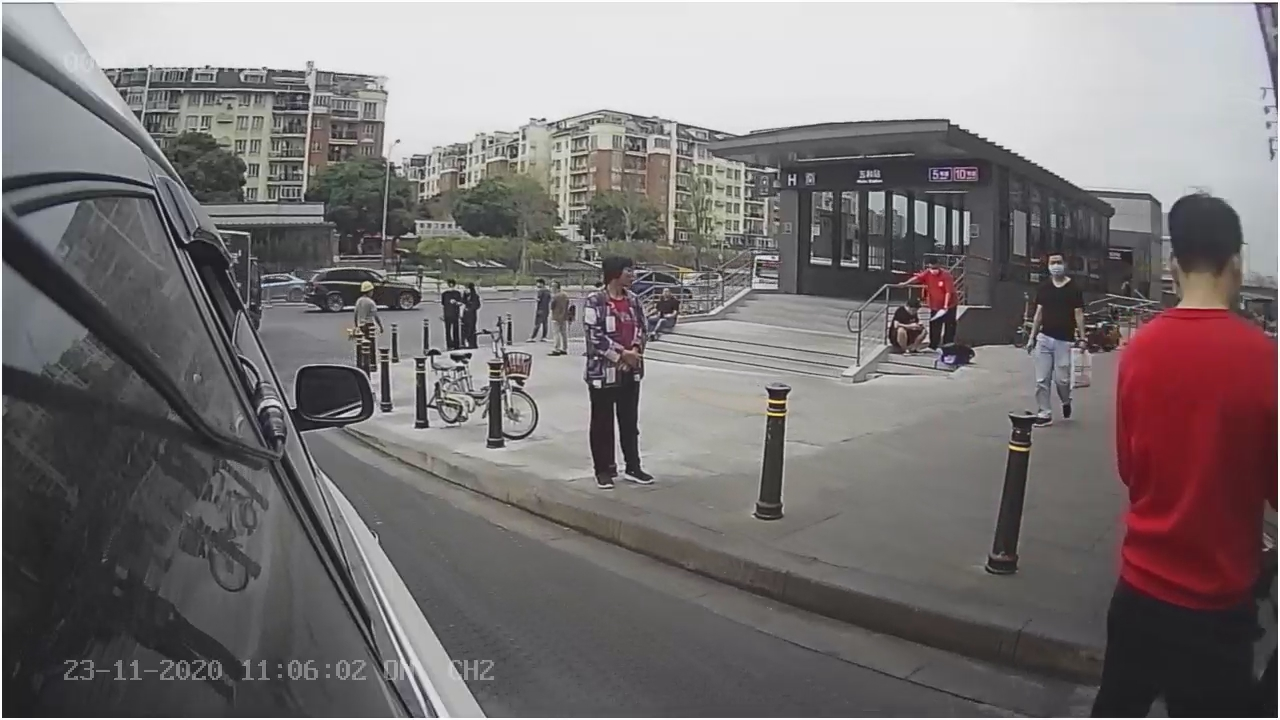person: (573, 247, 662, 492)
